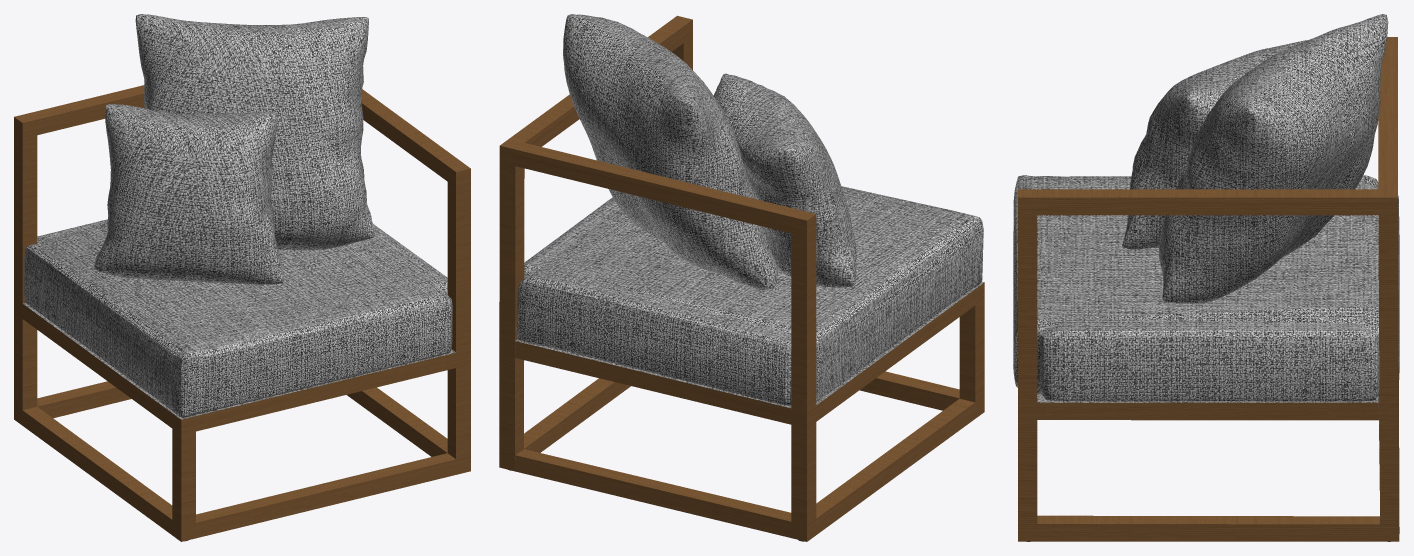
3 views of the same model, side by side, from view 1: azimuth 30°, elevation 25°; view 2: azimuth 150°, elevation 25°; view 3: azimuth 270°, elevation 25° (orthographic). The views are drawn at different scales.
Visible parts, largest first — view 1: C-skp361; view 2: C-skp361; view 3: C-skp361.
Boxes of the visible parts, x1=… form: C-skp361: x1=14, y1=14, x2=470, y2=541; C-skp361: x1=499, y1=14, x2=984, y2=541; C-skp361: x1=1013, y1=14, x2=1399, y2=541.
Size of the model in its own units: 0.6377 by 0.796 by 0.6402.
4 materials, 3 textured.
